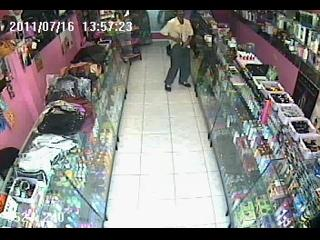Normal: (160, 10, 194, 92)
